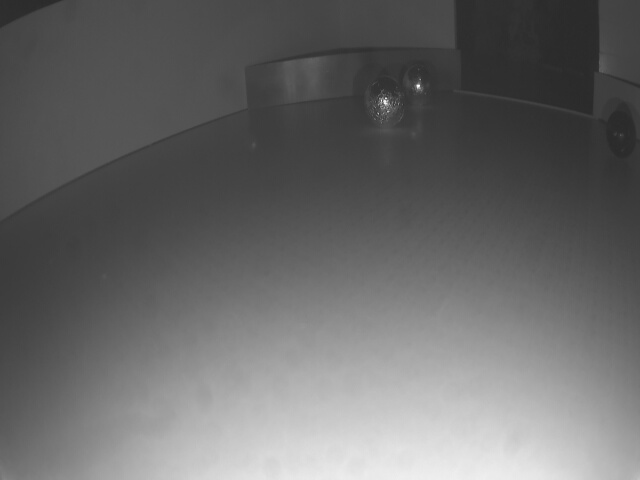Dead: (605, 111, 639, 159)
Green: (244, 49, 462, 113)
Live: (362, 76, 410, 128), (402, 65, 434, 103)
Red: (590, 72, 640, 130)
